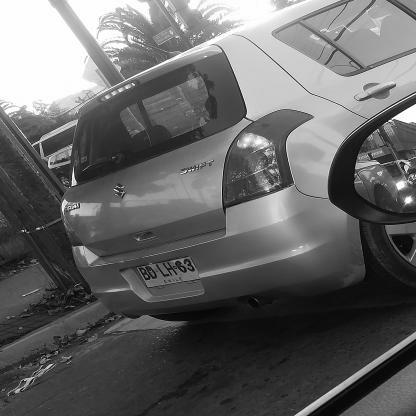Patente: (135, 256, 201, 289)
